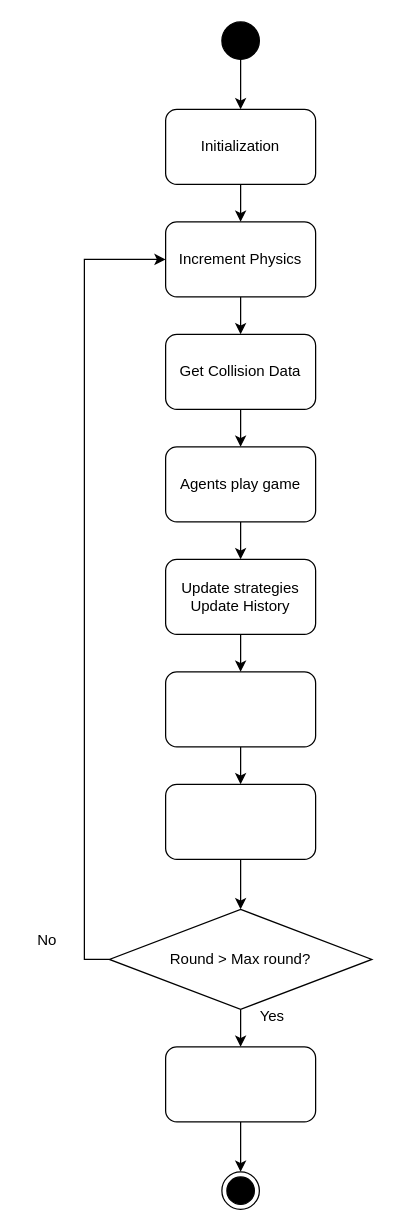
Some shapes in this 394 by 1231 pixel diagram are drawn without their labels. The shapes that lost their labels are listed below. From the top down, each one's centre as x and y in pixels, then its label:
the point at 240,709: Push agents
the point at 240,821: Draw Agents
the point at 240,1084: Data Processing
